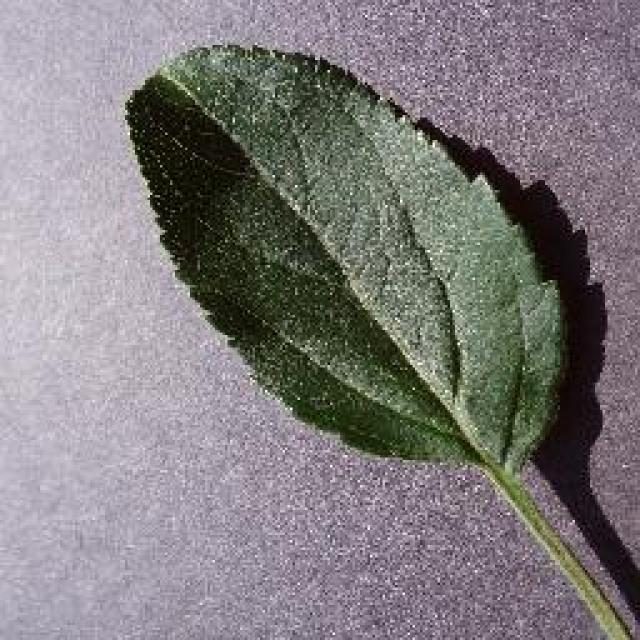apple healthy: (120, 38, 638, 638)
